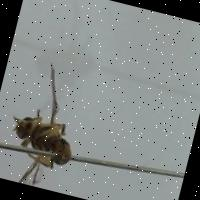Oriental-fruit-fly: (0, 50, 98, 194)
